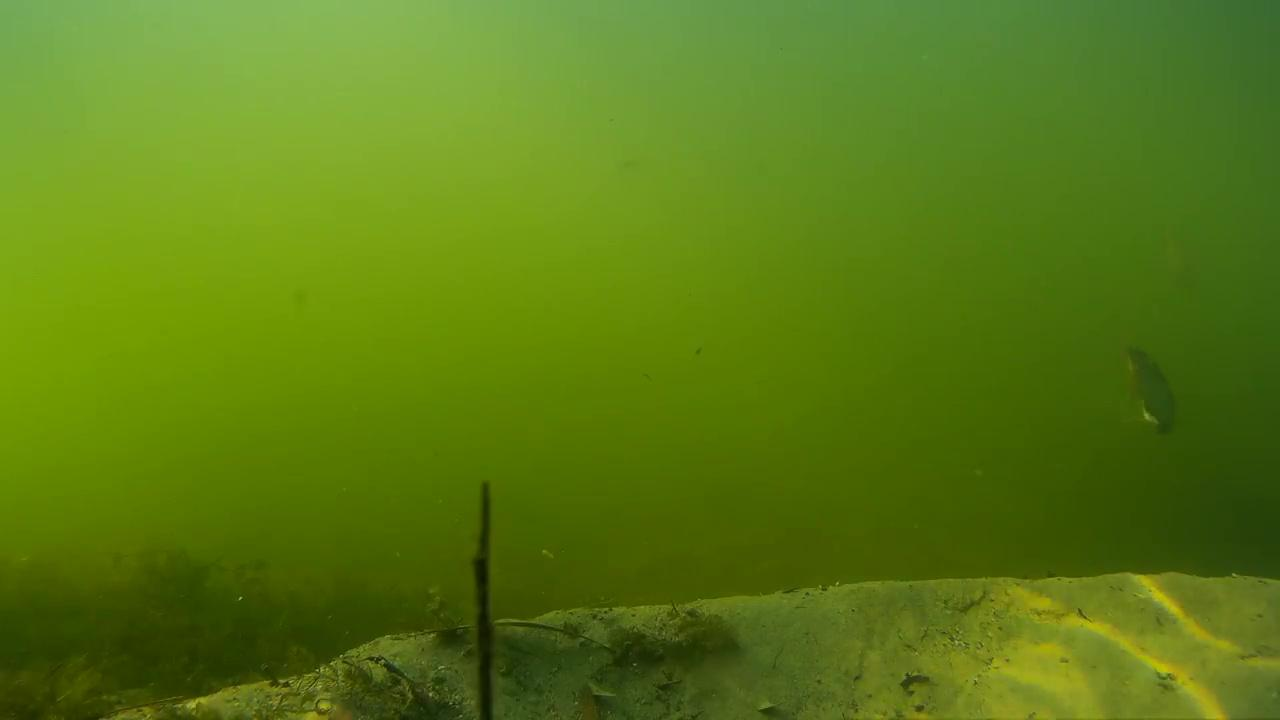Tilapia: (1115, 328, 1200, 438)
